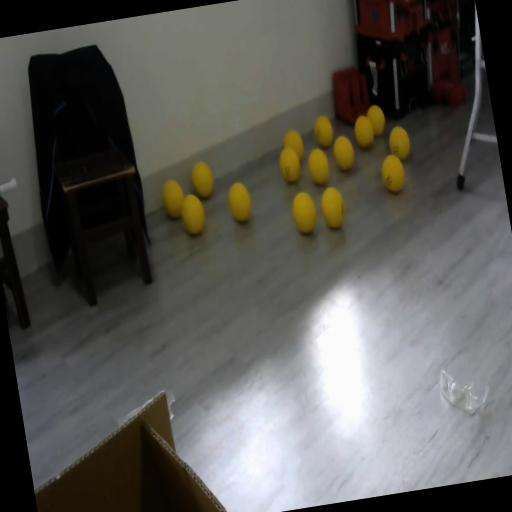FUEL: (288, 188, 320, 236), (176, 190, 208, 237), (224, 178, 255, 225), (318, 184, 348, 230), (377, 150, 407, 194), (159, 178, 187, 220), (304, 146, 332, 186), (189, 160, 216, 200), (331, 133, 357, 172), (386, 124, 412, 162), (281, 127, 306, 164), (312, 114, 336, 148), (364, 102, 388, 136)
